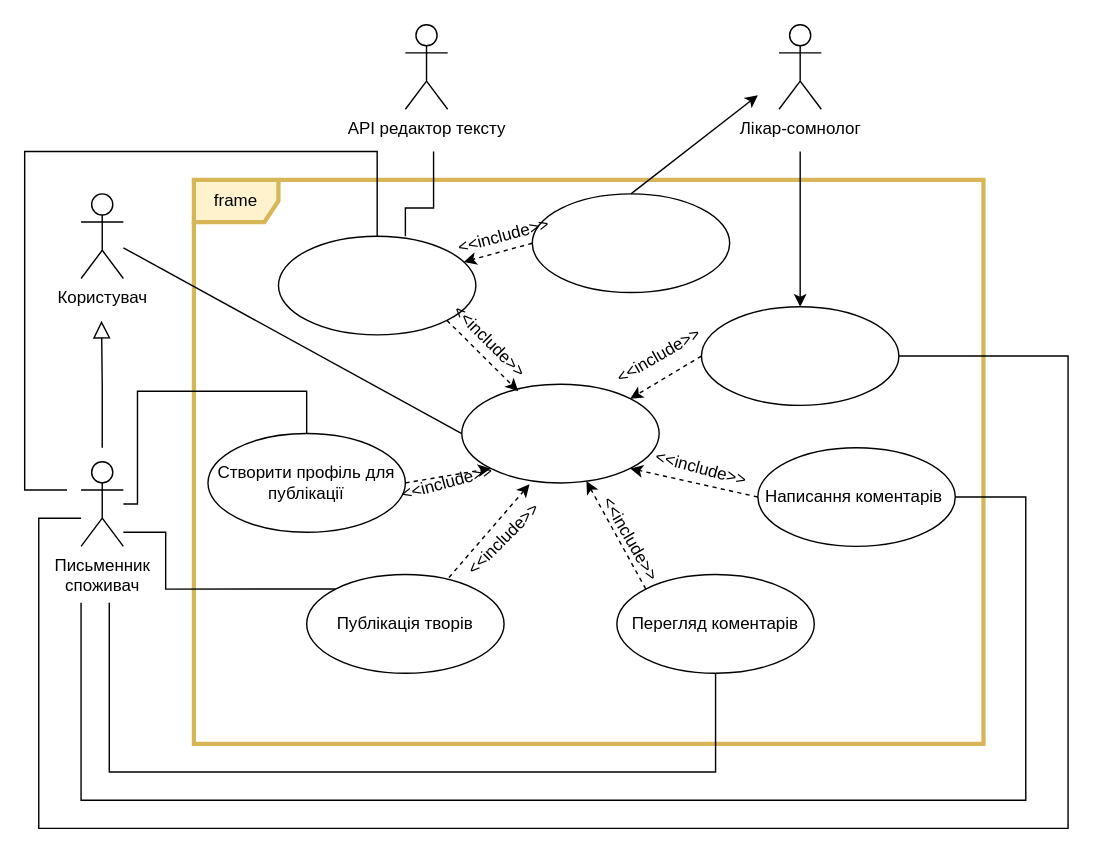
This 1094x854 diagram has some shape labels left out. Here are the shapes that lost their labels. From the top down, the centre of each, then its label:
At (630,242): "Описати сновидіння".
At (376,285): "Написання твору".
At (799,355): "отримати інформацію про сновидіння для покращення сну".
At (559,433): "Авторизувати користувача".
